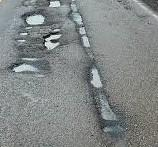pothole: (67, 1, 124, 136), (7, 57, 44, 84), (42, 26, 65, 54), (21, 9, 47, 27), (16, 25, 35, 44), (47, 0, 64, 9)
